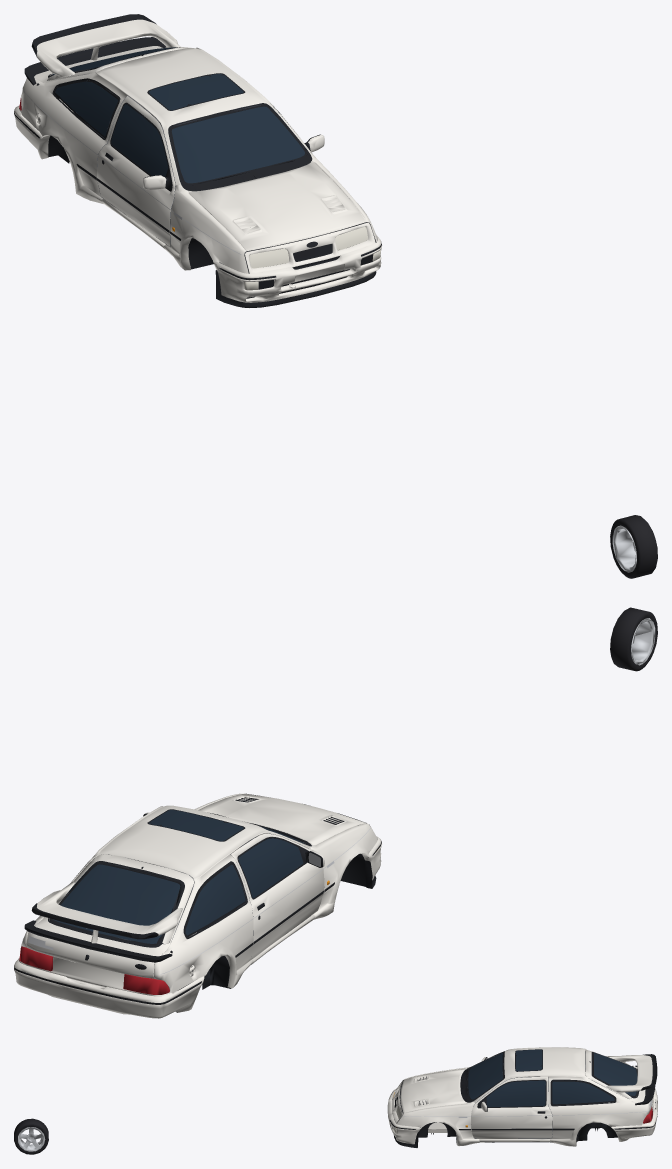
Rendered from sierra.glb.
3 renders of one model, top to bottom at view 1: azimuth 30°, elevation 25°; view 2: azimuth 150°, elevation 25°; view 3: azimuth 270°, elevation 25°, orthographic. The views are drawn at different scales.
Parts seen in each view (by area): view 1: sierra, sierra_tyre; view 2: sierra, sierra_tyre; view 3: sierra, sierra_tyre.
Part boxes in pixels (box(x1,y1,x2,y2)): sierra: box(14, 14, 382, 307); sierra_tyre: box(610, 515, 657, 578); sierra: box(14, 793, 381, 1018); sierra_tyre: box(610, 607, 657, 671); sierra: box(387, 1047, 657, 1147); sierra_tyre: box(14, 1118, 48, 1154).
Size of the model in its own units: 1.95 by 1.71 by 10.61.
